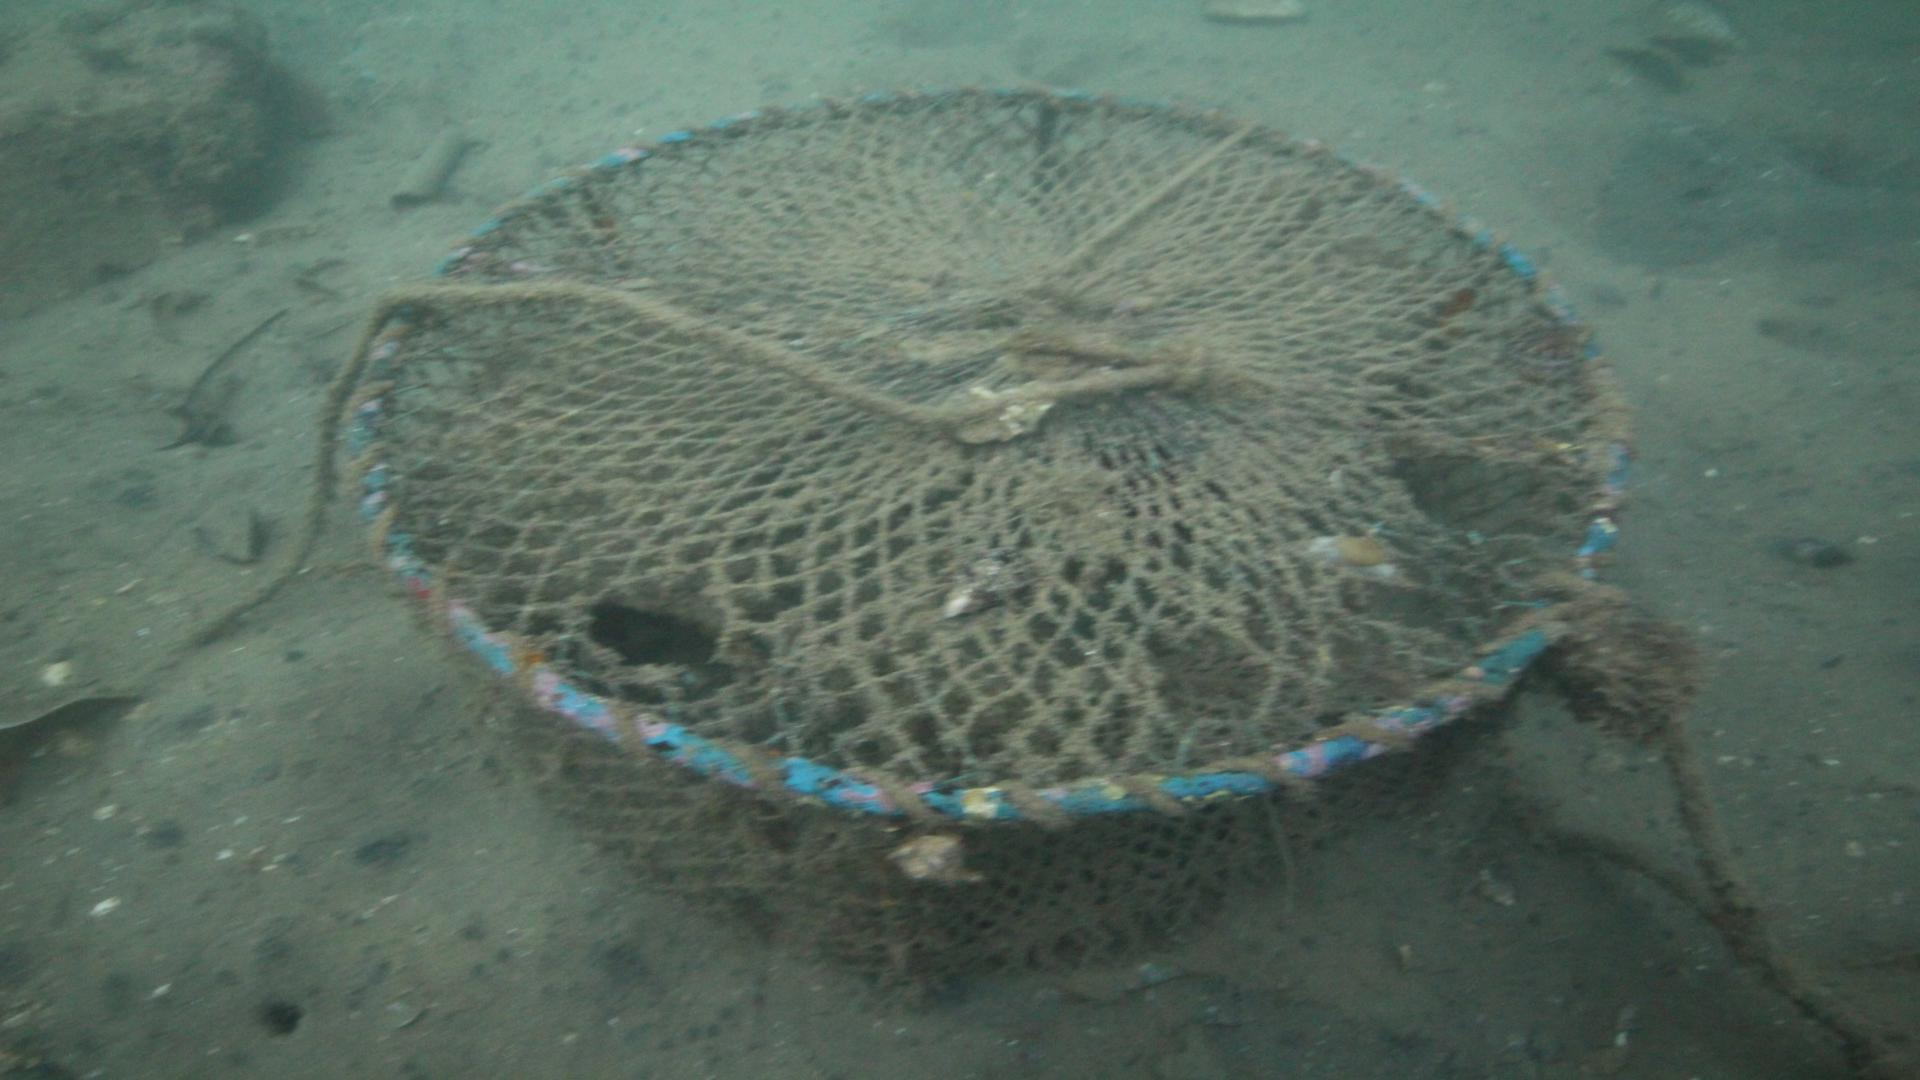circular fish trap: (349, 80, 1636, 992)
